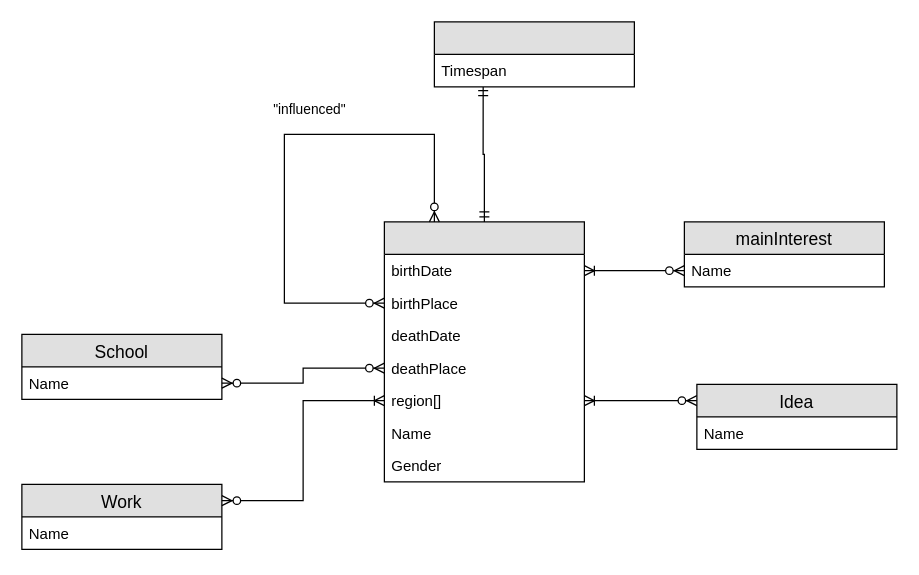
This 919x575 diagram has some shape labels left out. Here are the shapes that lost their labels. From the top down, the box of each, then its label:
(433, 21, 634, 87): Era
(383, 221, 584, 482): Philosopher
